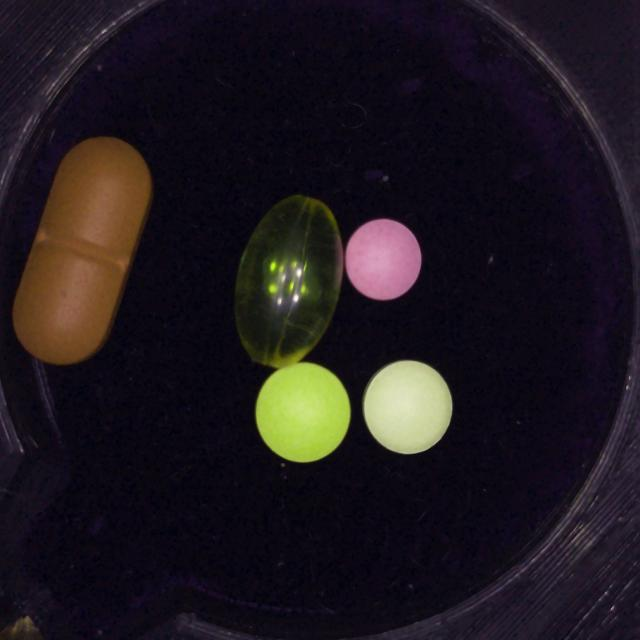Pill: (12, 137, 152, 365), (235, 195, 343, 369), (255, 362, 351, 462), (363, 360, 452, 454), (345, 219, 422, 301)
